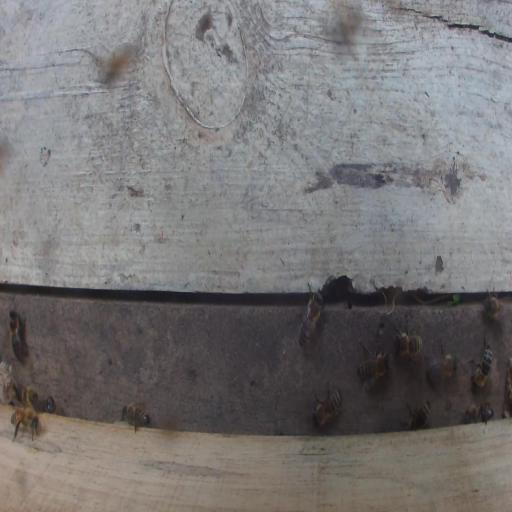bee: (357, 340, 390, 393), (298, 282, 324, 348), (98, 43, 138, 84), (394, 316, 424, 362), (468, 334, 492, 390), (312, 385, 342, 428), (10, 406, 41, 443), (8, 308, 29, 362), (425, 354, 457, 388), (120, 403, 151, 434), (400, 400, 431, 430), (483, 290, 505, 323), (476, 402, 494, 424), (24, 386, 38, 412), (464, 405, 477, 424), (42, 396, 55, 414)
